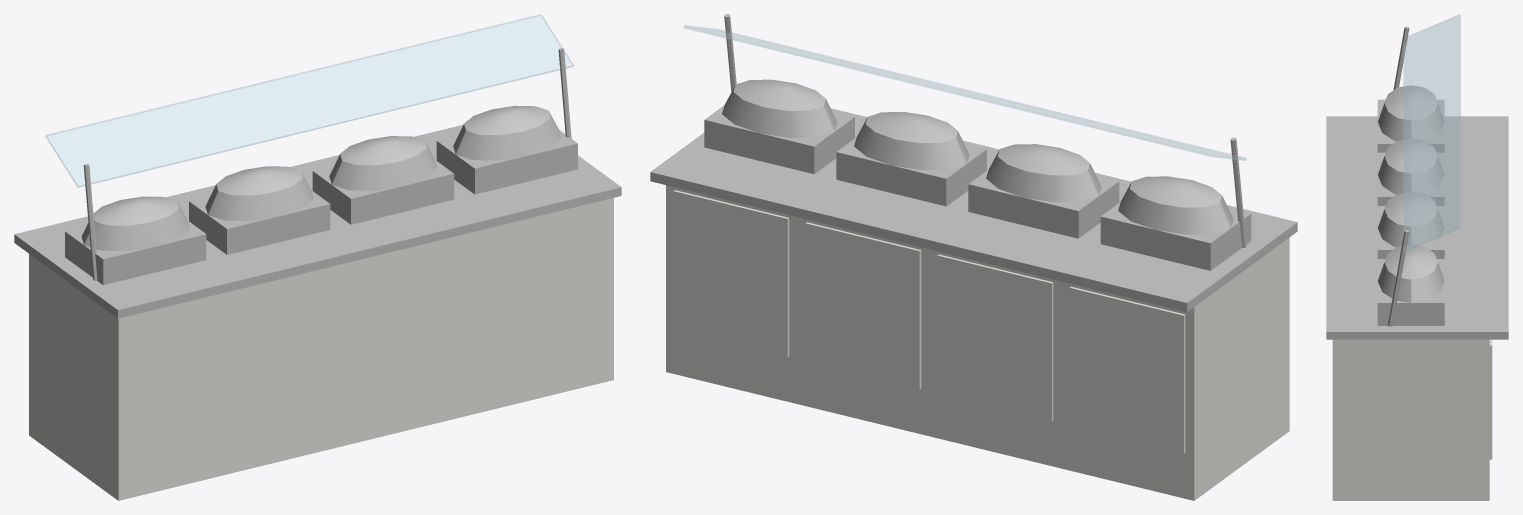
The model's file is hospitality.restaurant.buffet.glb.
3 views of the same model, side by side, from view 1: azimuth 30°, elevation 25°; view 2: azimuth 150°, elevation 25°; view 3: azimuth 270°, elevation 25° (orthographic). The views are drawn at different scales.
Visible parts, largest first — view 1: main__laminate_white, main__steel_stainless, main__glass; view 2: main__laminate_white, main__steel_stainless, main__glass; view 3: main__steel_stainless, main__laminate_white, main__glass.
Boxes of the visible parts, box(x1,y1,x2,y2) form: main__laminate_white: box(29, 198, 613, 500); main__steel_stainless: box(14, 48, 621, 318); main__glass: box(45, 14, 573, 187); main__laminate_white: box(666, 185, 1289, 500); main__steel_stainless: box(650, 14, 1297, 311); main__glass: box(683, 25, 1246, 160); main__steel_stainless: box(1326, 26, 1508, 339); main__laminate_white: box(1332, 339, 1492, 500); main__glass: box(1403, 14, 1460, 251).
Size of the model in its own units: 2.44 by 1.45 by 0.87.
